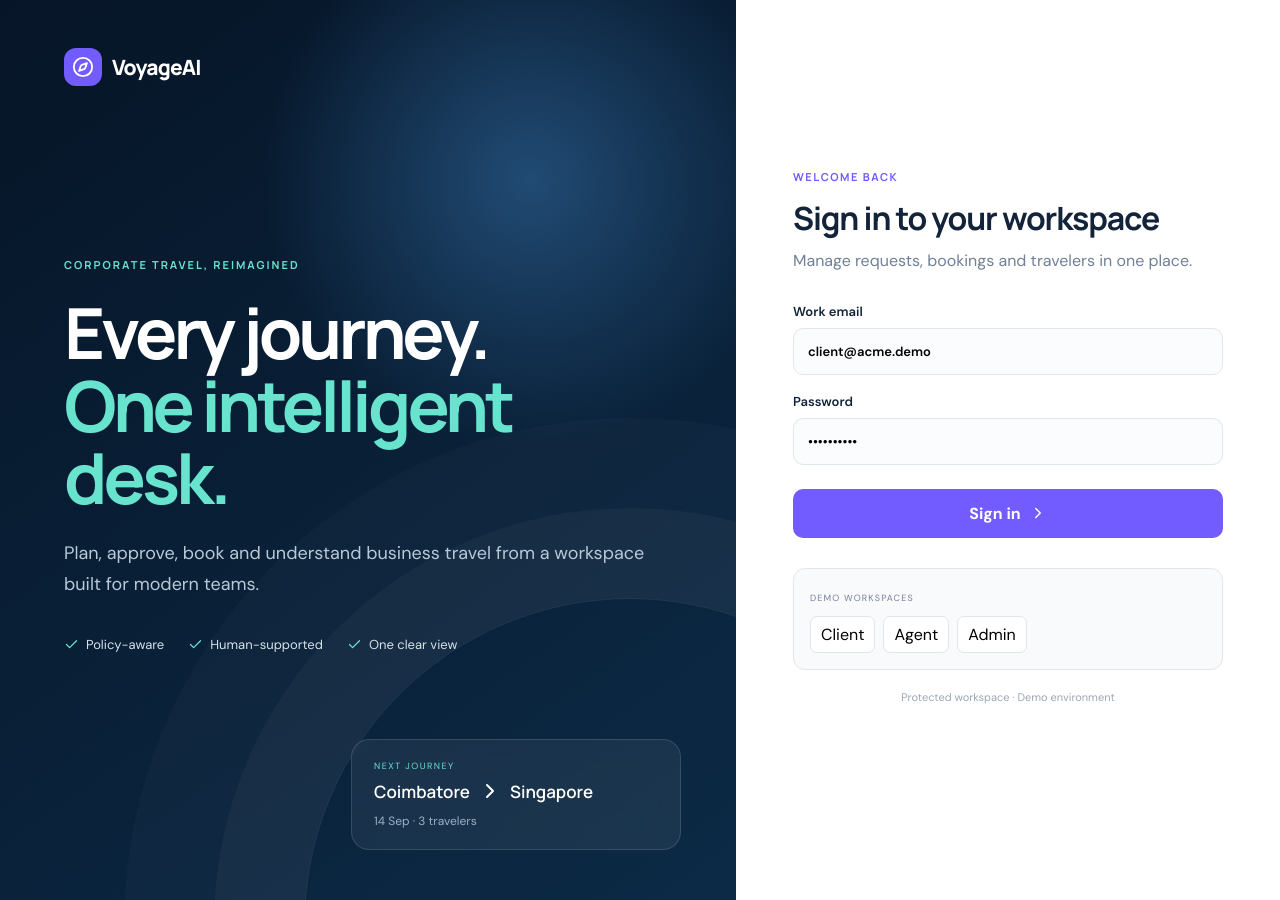
it: demo selector changes credentials
Click the button "admin". click: (992, 634)
box: [957,616,1027,652]
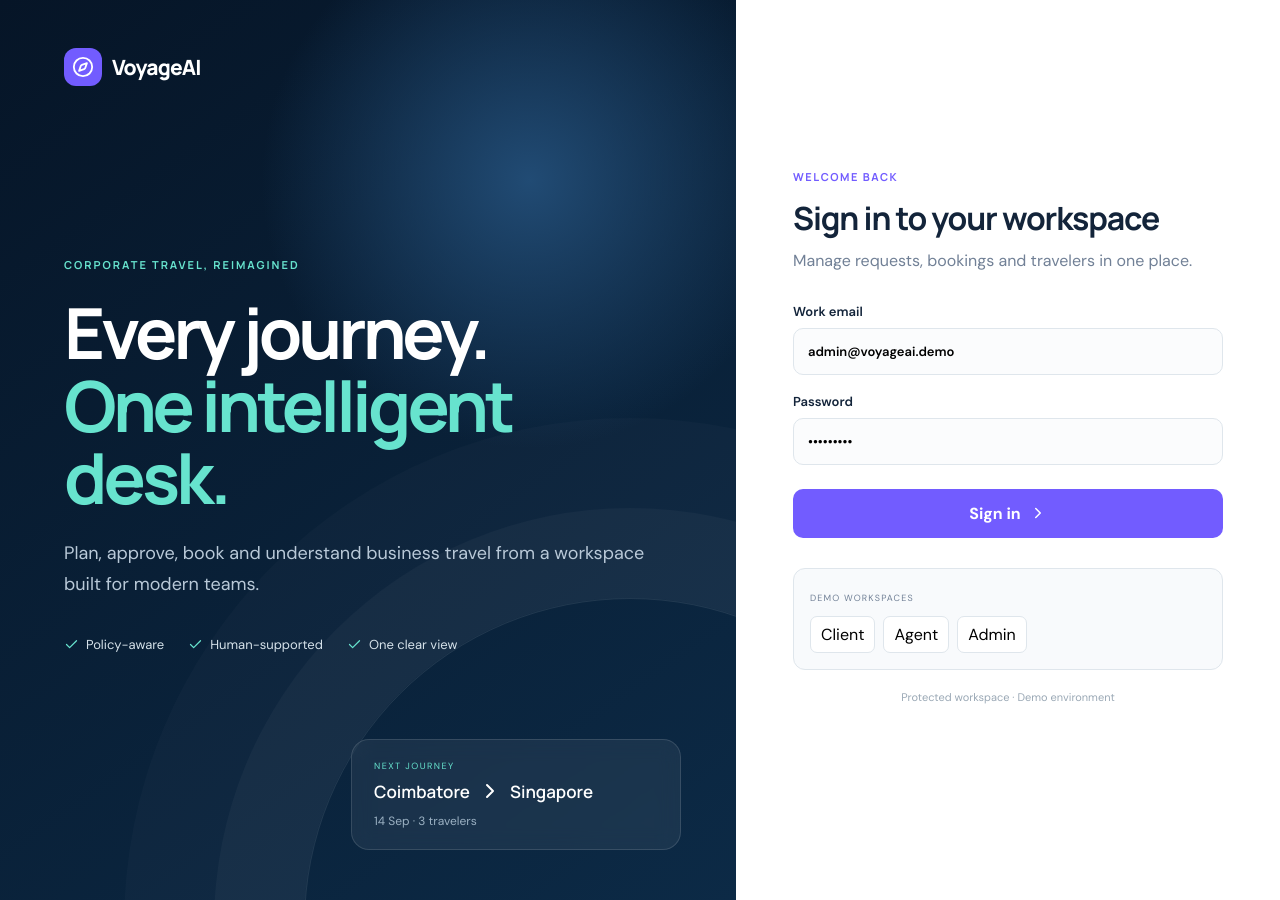
Expected: the field showing "admin@voyageai.demo" is shown, [793,328,1223,374]
